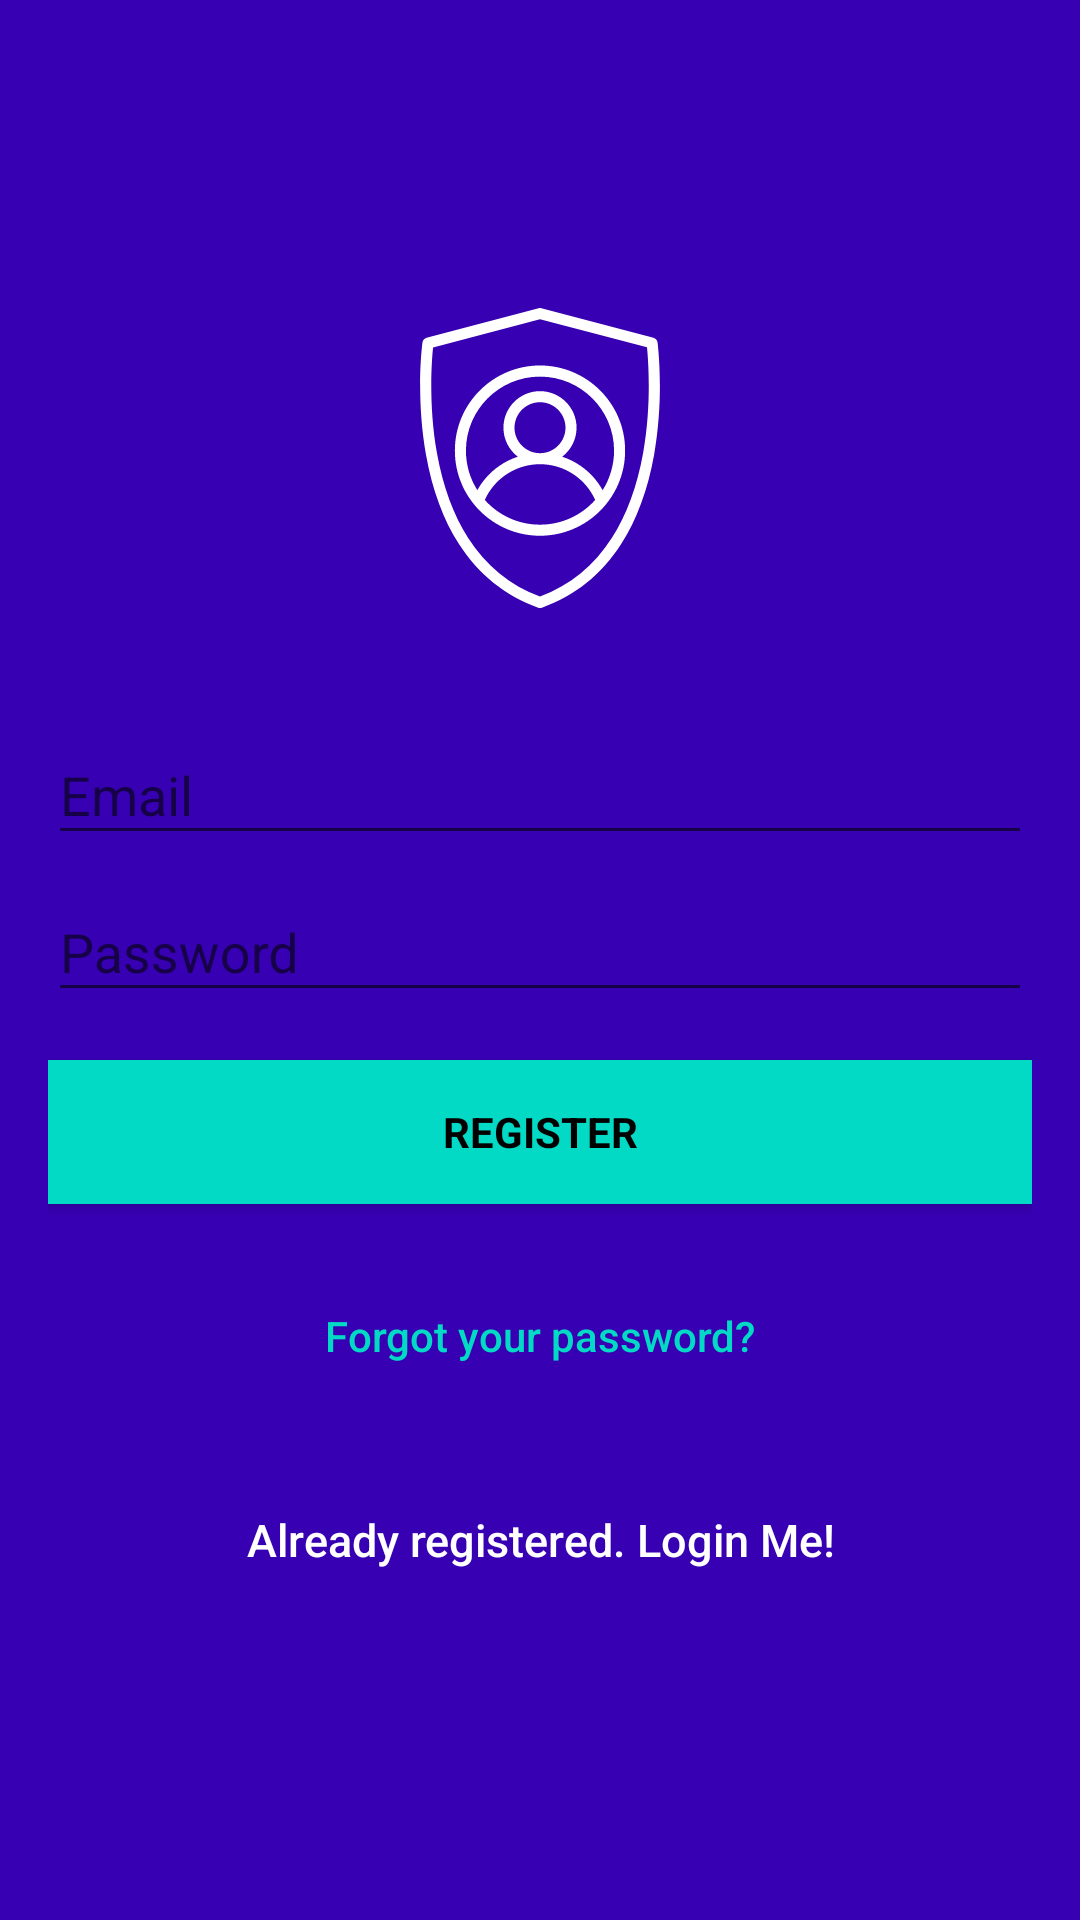

Screen size 1080×1920. Icon name, then its center in pixels as (x,y):
account: (540,458)
